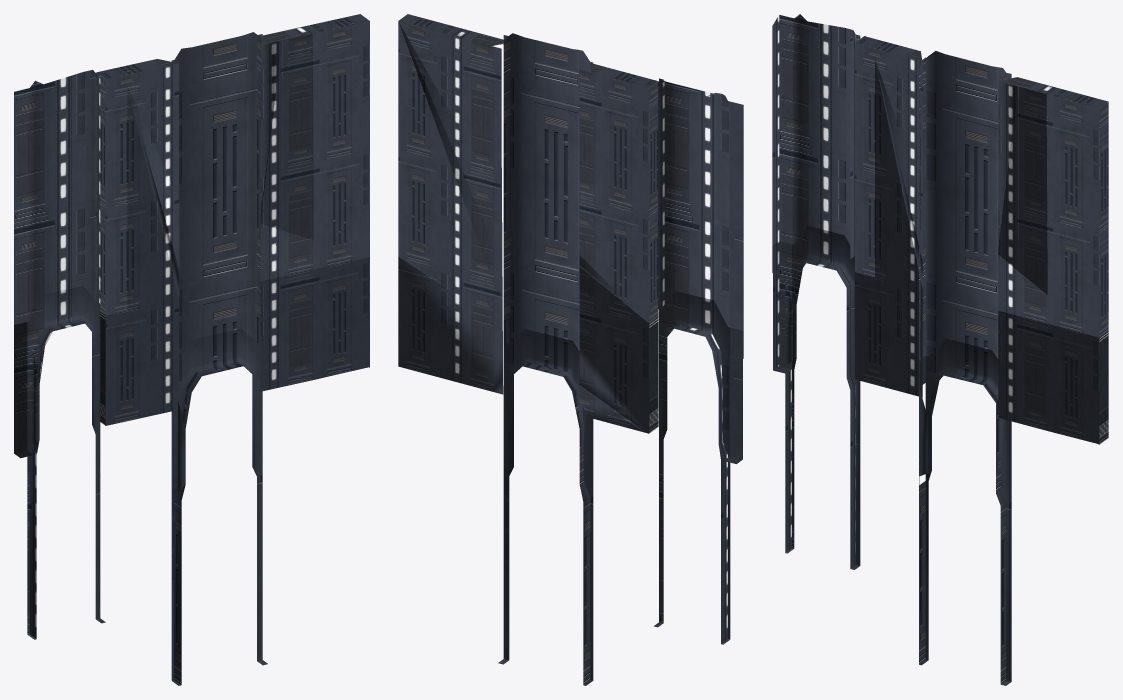
The model's file is bldg_lab_wall1.gltf.
The picture shows the model from 3 angles, left to right: view 1: azimuth 30°, elevation 25°; view 2: azimuth 150°, elevation 25°; view 3: azimuth 330°, elevation 25°; orthographic projection. The views are drawn at different scales.
Visible parts, largest first — view 1: lab_wall1, postern_doorway4, postern_doorway5; view 2: lab_wall1, postern_doorway4, postern_doorway5; view 3: lab_wall1, postern_doorway4, postern_doorway5.
Boxes of the visible parts, x1,y1,x2,y2 form: lab_wall1: (96, 14, 369, 425); postern_doorway4: (171, 32, 267, 685); postern_doorway5: (14, 70, 105, 639); lab_wall1: (398, 14, 658, 433); postern_doorway4: (498, 33, 593, 685); postern_doorway5: (654, 78, 743, 644); lab_wall1: (855, 36, 1108, 444); postern_doorway4: (919, 51, 1011, 685); postern_doorway5: (772, 14, 860, 569).
Bounding box in the file's own units: 24.66 × 43.3 × 2.04.
Materials: 3 (3 with a texture image).
